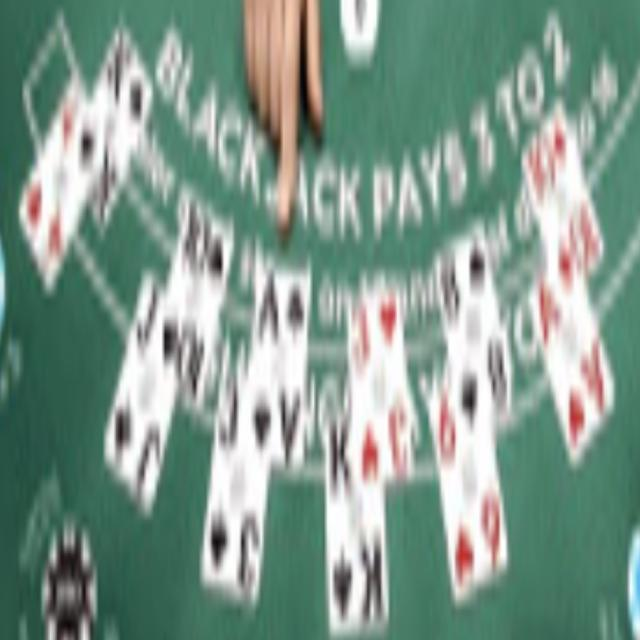Card-3: (348, 287, 414, 489)
Card-6: (428, 364, 507, 601)
Card-8: (435, 215, 514, 459)
Card-A: (530, 261, 616, 465), (251, 270, 308, 462)
Card-J: (103, 261, 175, 500), (201, 368, 269, 598)
Card-K: (152, 201, 235, 411), (522, 103, 604, 314), (73, 23, 154, 234), (326, 415, 387, 631)
